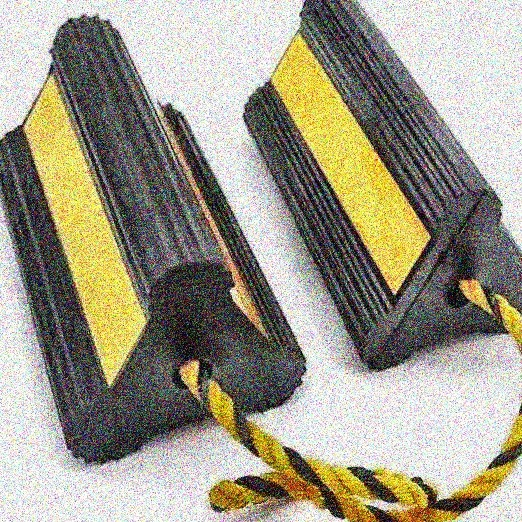chock: (0, 10, 309, 477), (239, 0, 522, 379)
